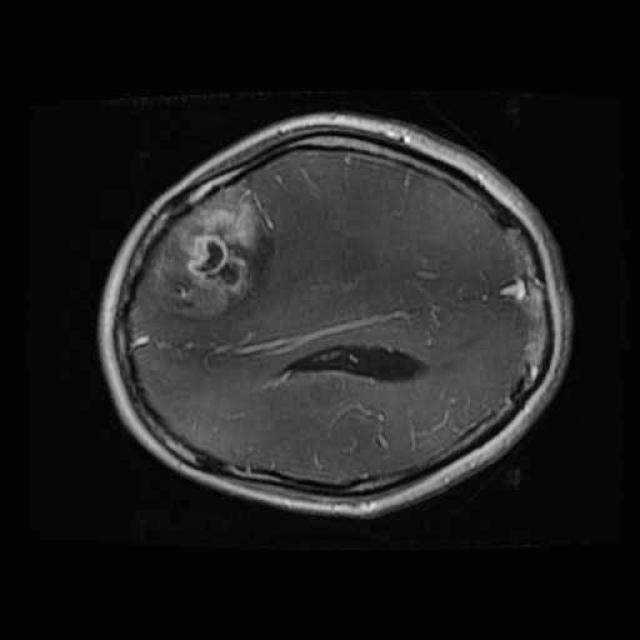Tumor: (134, 164, 282, 331)
